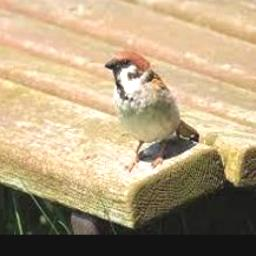Sparrow: (105, 52, 199, 171)
